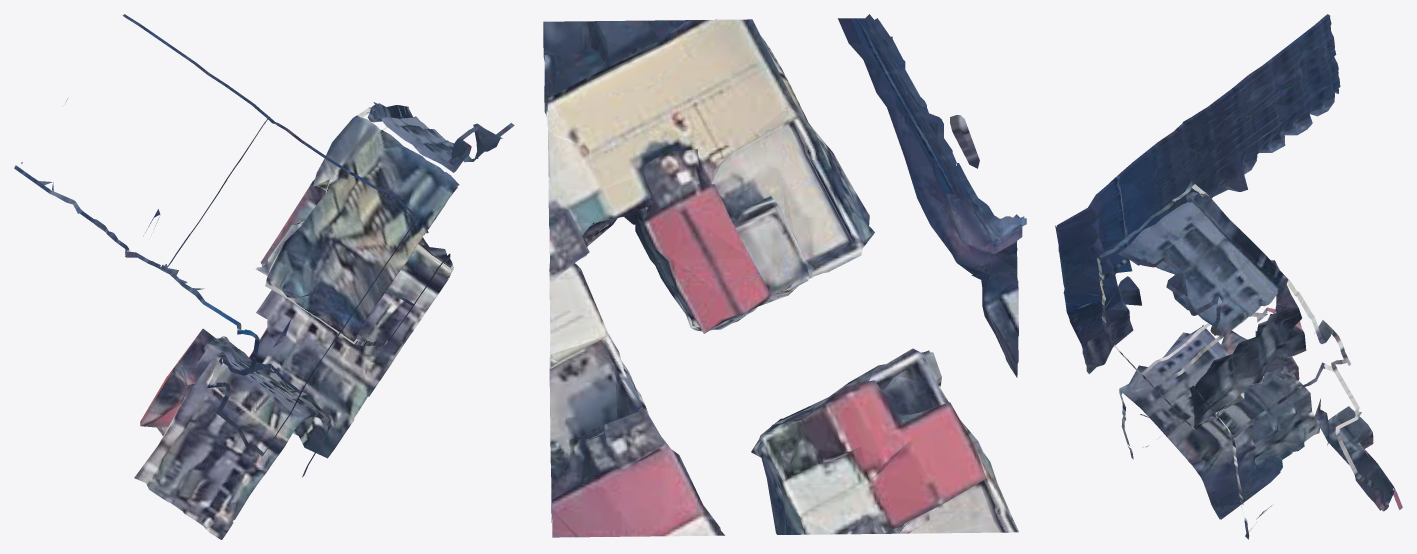
The picture shows the model from 3 angles, left to right: view 1: azimuth 30°, elevation 25°; view 2: azimuth 150°, elevation 25°; view 3: azimuth 270°, elevation 25°; orthographic projection. The views are drawn at different scales.
Bounding box in the file's own units: 49.57 × 50.17 × 35.41.
1 material, 1 textured.
